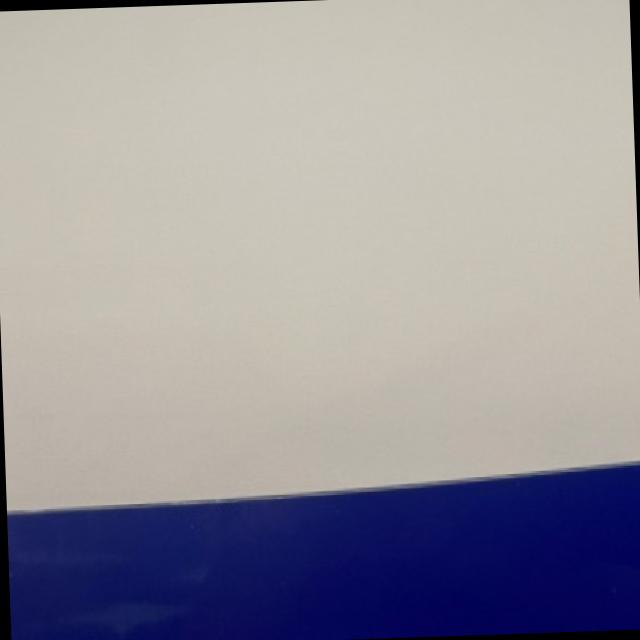healthy: (9, 463, 640, 640)
